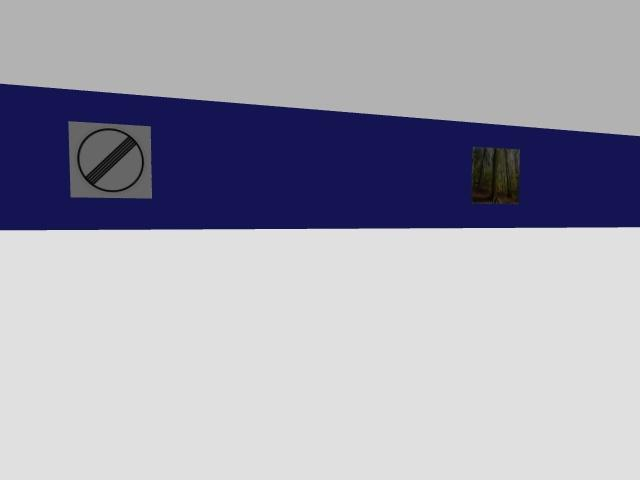fastsign: (69, 121, 151, 198)
tree: (489, 161, 496, 203), (478, 148, 485, 189), (505, 149, 510, 196), (514, 152, 519, 178)
